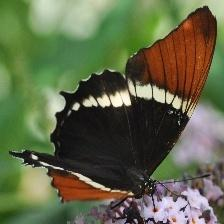butterfly: (9, 6, 217, 204)
